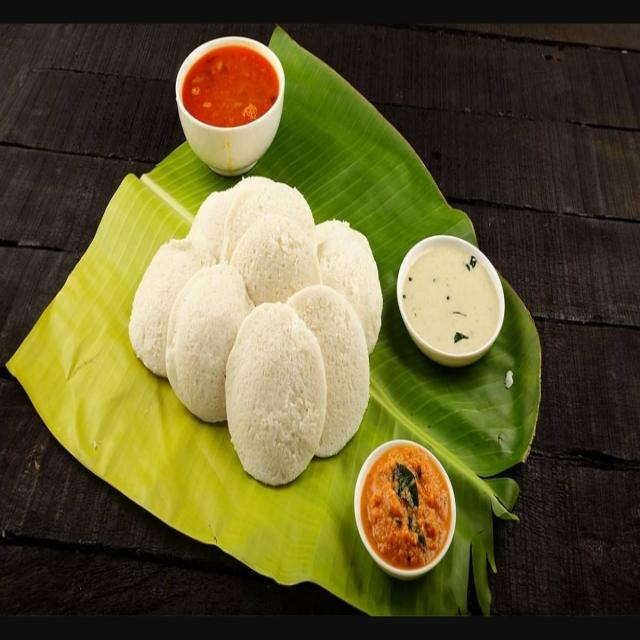IDLI: (226, 302, 326, 485), (286, 284, 369, 457), (166, 263, 253, 421), (129, 235, 214, 377), (316, 220, 382, 353), (229, 212, 320, 305), (220, 178, 314, 261), (189, 178, 275, 261)
